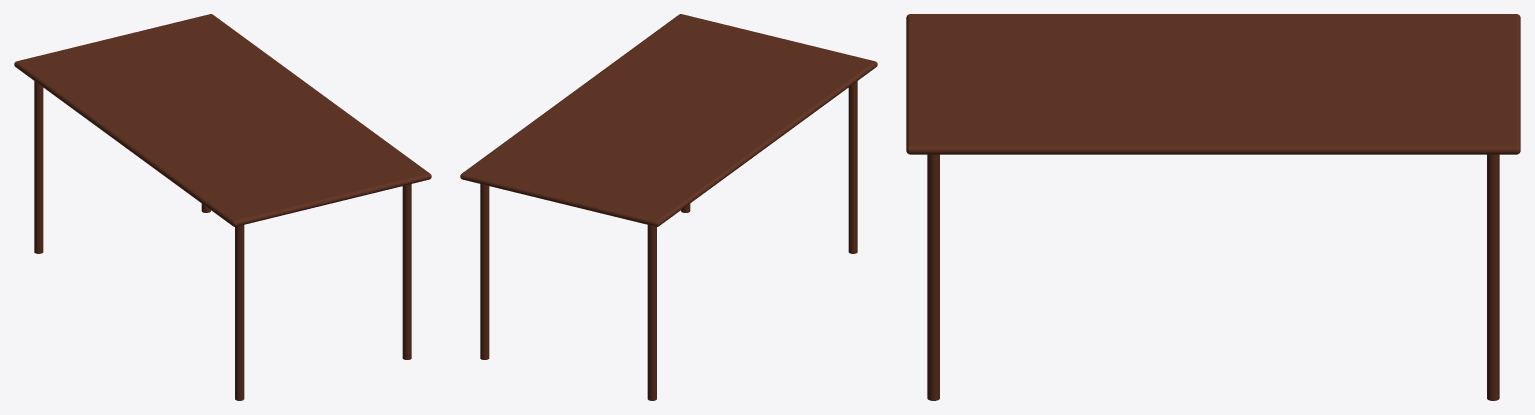
The model's file is TABLE WOOD.fbx.
The picture shows the model from 3 angles, left to right: view 1: azimuth 30°, elevation 25°; view 2: azimuth 150°, elevation 25°; view 3: azimuth 270°, elevation 25°; orthographic projection. The views are drawn at different scales.
Visible parts, largest first — view 1: Cube.080, Cylinder.072; view 2: Cube.080, Cylinder.072; view 3: Cube.080, Cylinder.072.
Boxes of the visible parts, x1=… form: Cube.080: x1=14, y1=14, x2=431, y2=226; Cylinder.072: x1=34, y1=81, x2=411, y2=400; Cube.080: x1=460, y1=14, x2=877, y2=226; Cylinder.072: x1=480, y1=81, x2=857, y2=400; Cube.080: x1=906, y1=14, x2=1520, y2=154; Cylinder.072: x1=927, y1=154, x2=1499, y2=400.
Bounding box in the file's own units: 800 × 720 × 1535.
